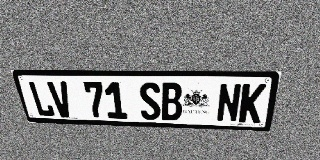1: (102, 82, 127, 119)
7: (82, 82, 108, 118)
B: (160, 82, 182, 121)
K: (238, 83, 267, 123)
L: (27, 81, 56, 117)
N: (216, 83, 242, 122)
S: (138, 82, 161, 120)
V: (47, 81, 74, 117)
